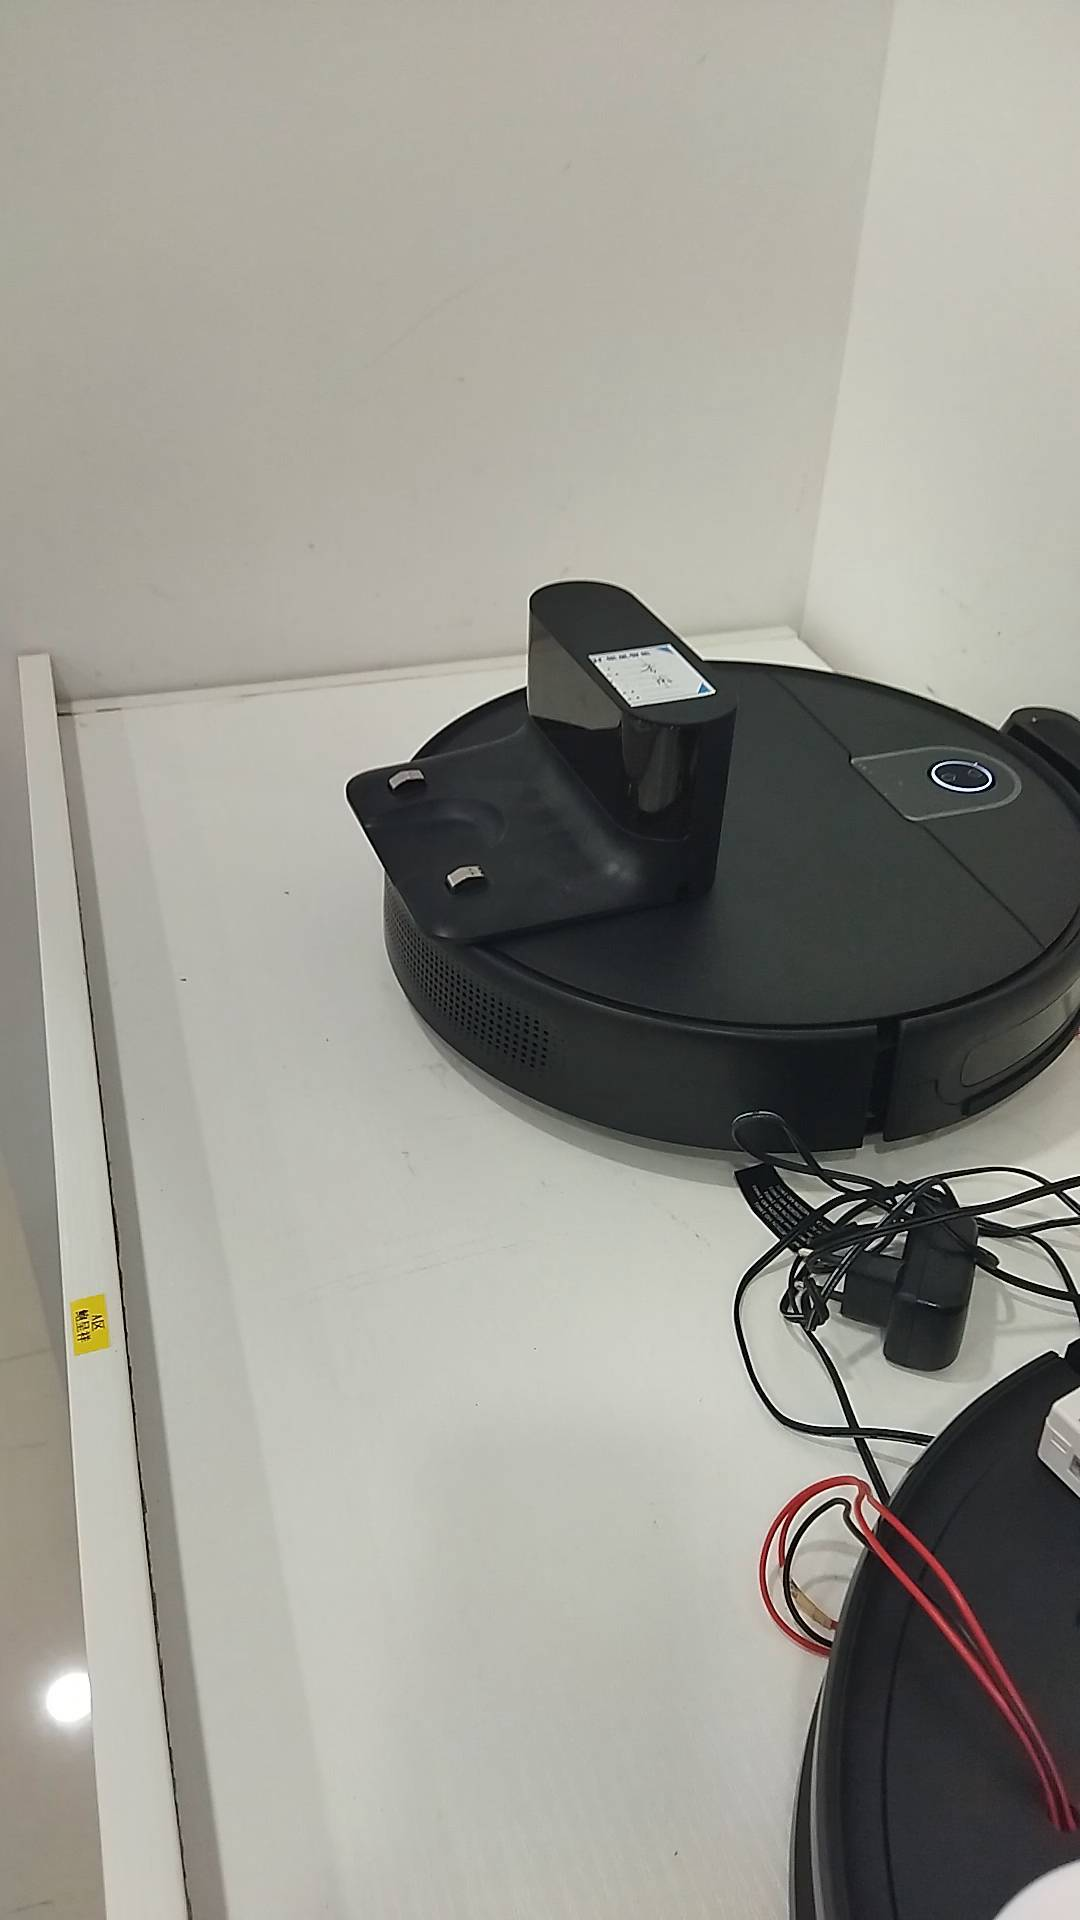recharge seat: (342, 582, 742, 945)
